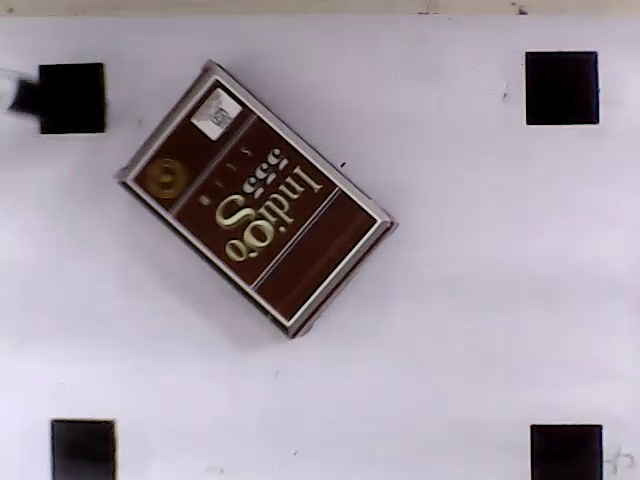BEX: (128, 76, 380, 325)
